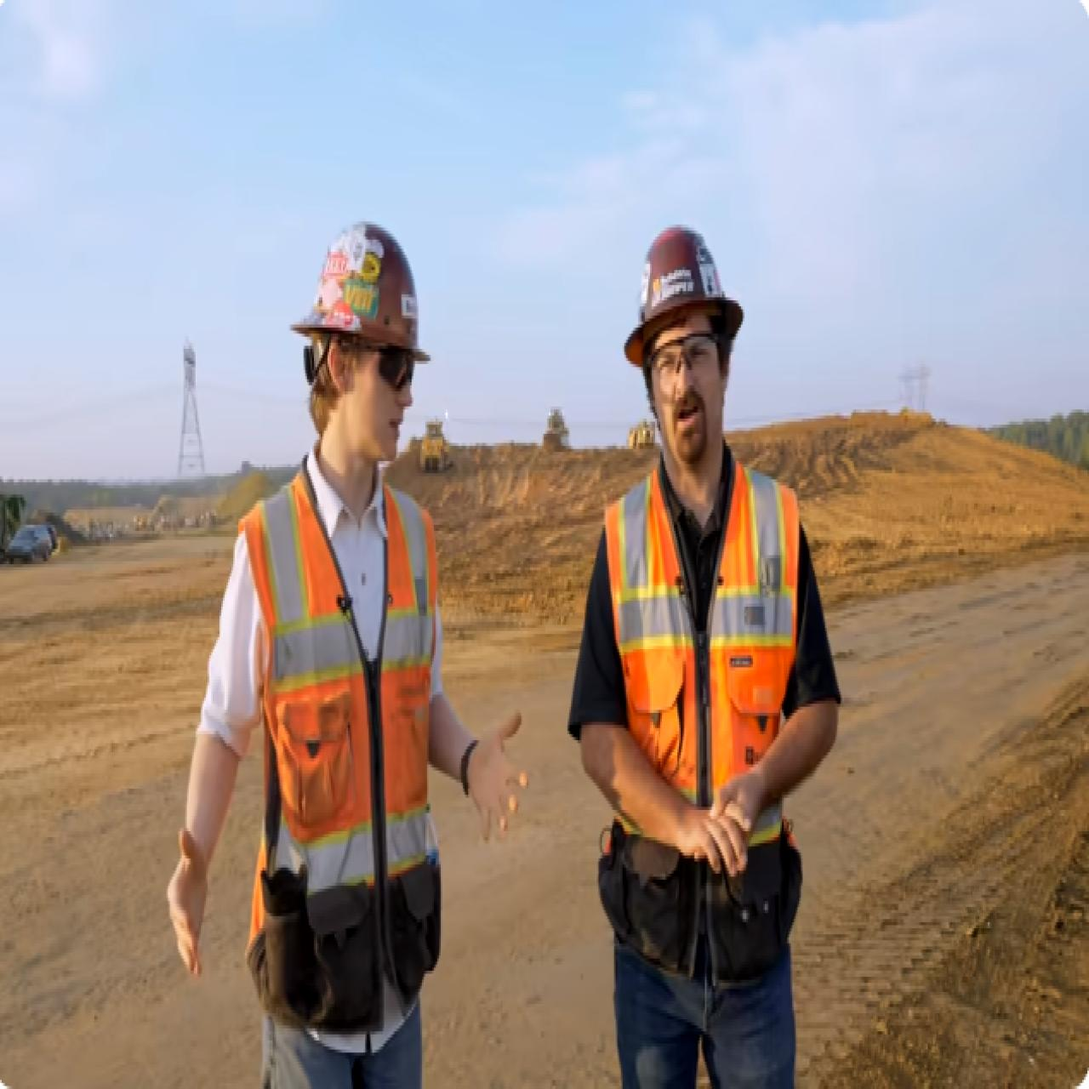Person: (162, 200, 532, 1082), (564, 209, 857, 1089)
Safety_Vest: (228, 458, 437, 1003), (601, 466, 805, 867)
